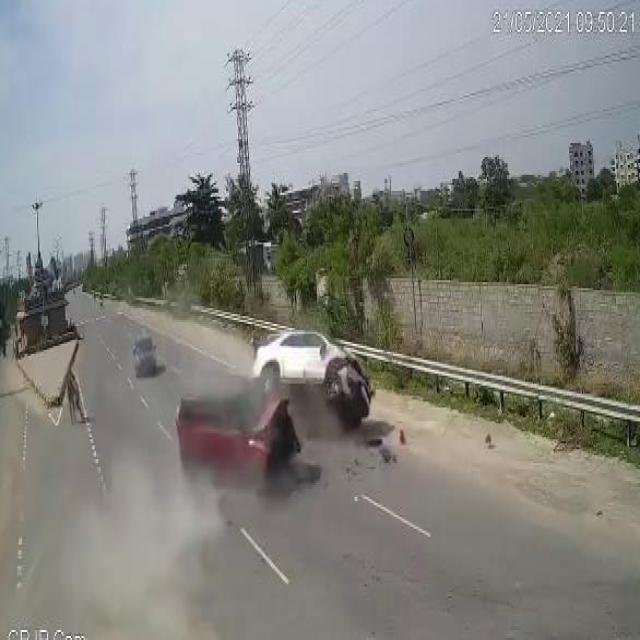accident: (172, 302, 408, 510)
